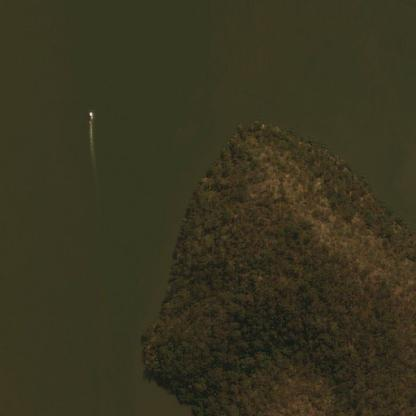ship: (83, 103, 97, 123)
